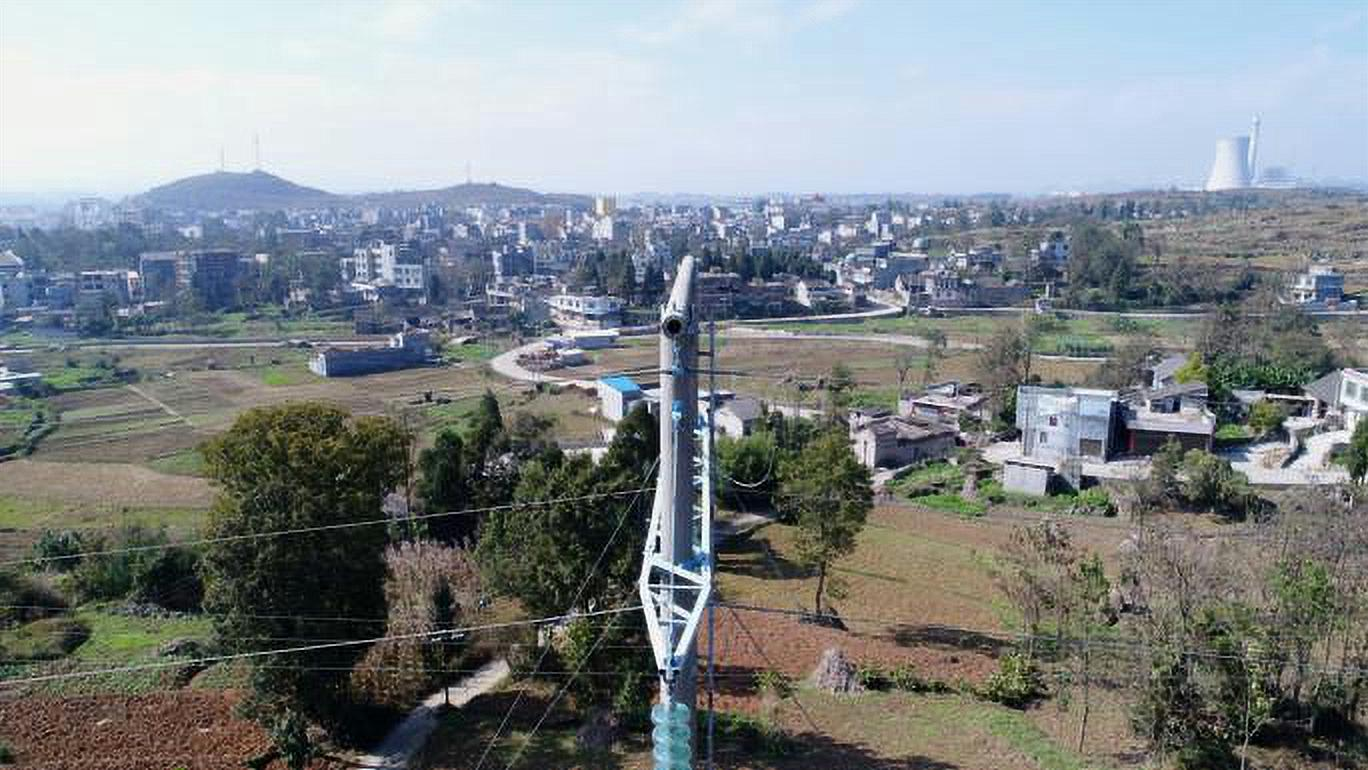insulator: (642, 696, 699, 770)
